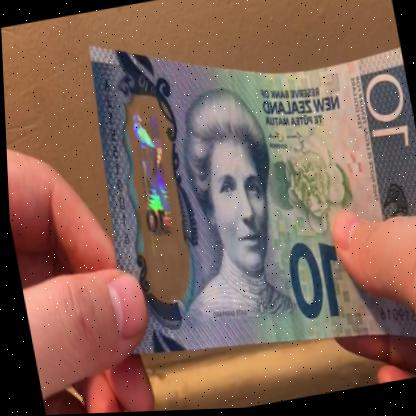10B: (118, 105, 188, 280)
